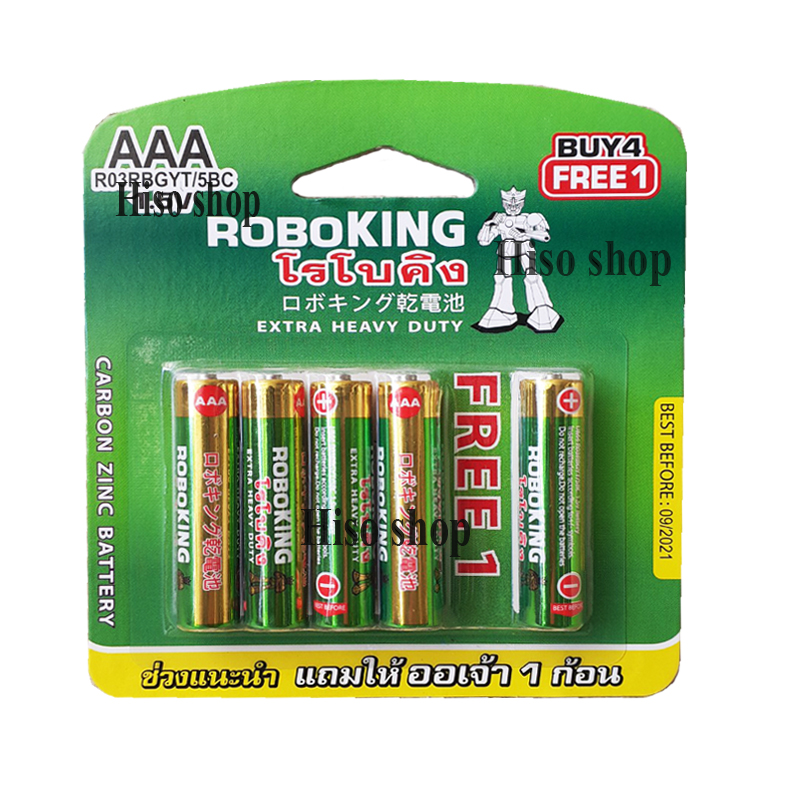Battery: (516, 369, 593, 629), (375, 373, 447, 634), (170, 369, 240, 631), (240, 373, 311, 631), (308, 373, 379, 630)
